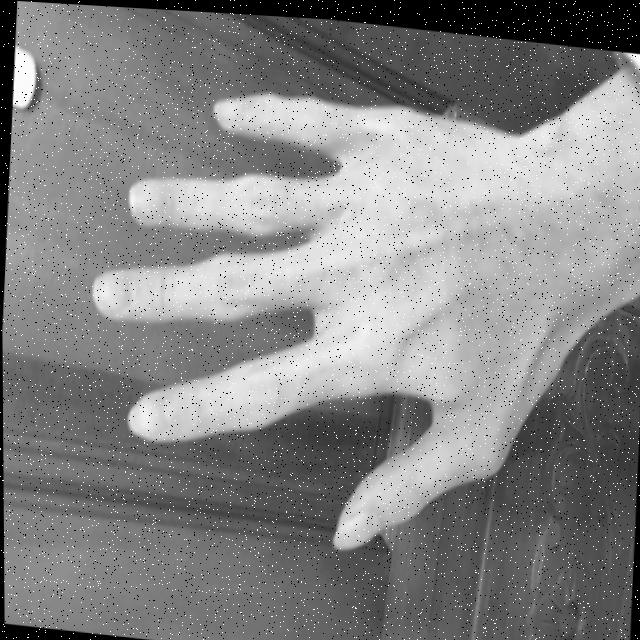hand: (76, 64, 545, 569)
